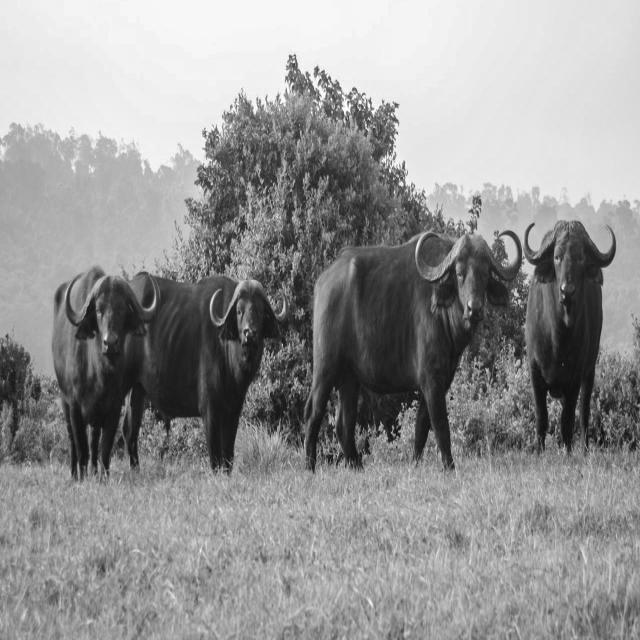Buffalo: (301, 227, 525, 477), (123, 274, 289, 474), (50, 266, 160, 484), (522, 217, 616, 459)
